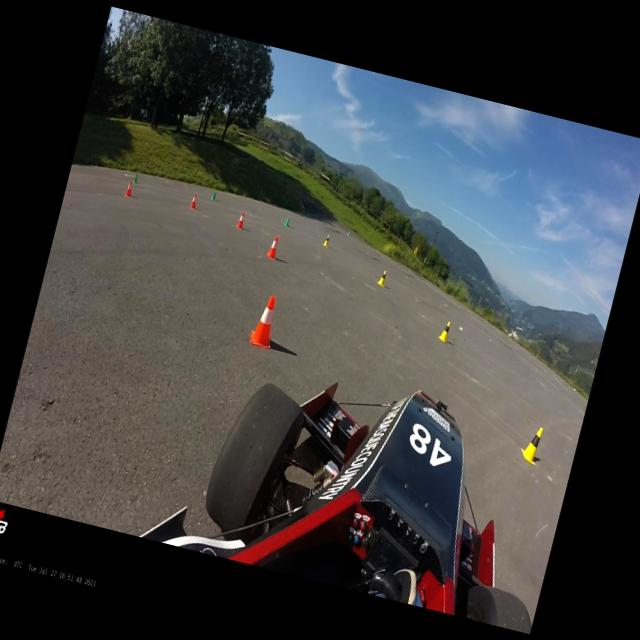orange_cone: (246, 292, 282, 349), (265, 233, 282, 260), (235, 210, 247, 230), (124, 179, 136, 197), (189, 192, 199, 210), (284, 216, 291, 227)
unknown_cone: (284, 216, 291, 227), (133, 172, 138, 184), (211, 190, 216, 200)
yellow_cone: (518, 424, 544, 466), (436, 318, 452, 342), (376, 269, 388, 287), (322, 232, 331, 247)
